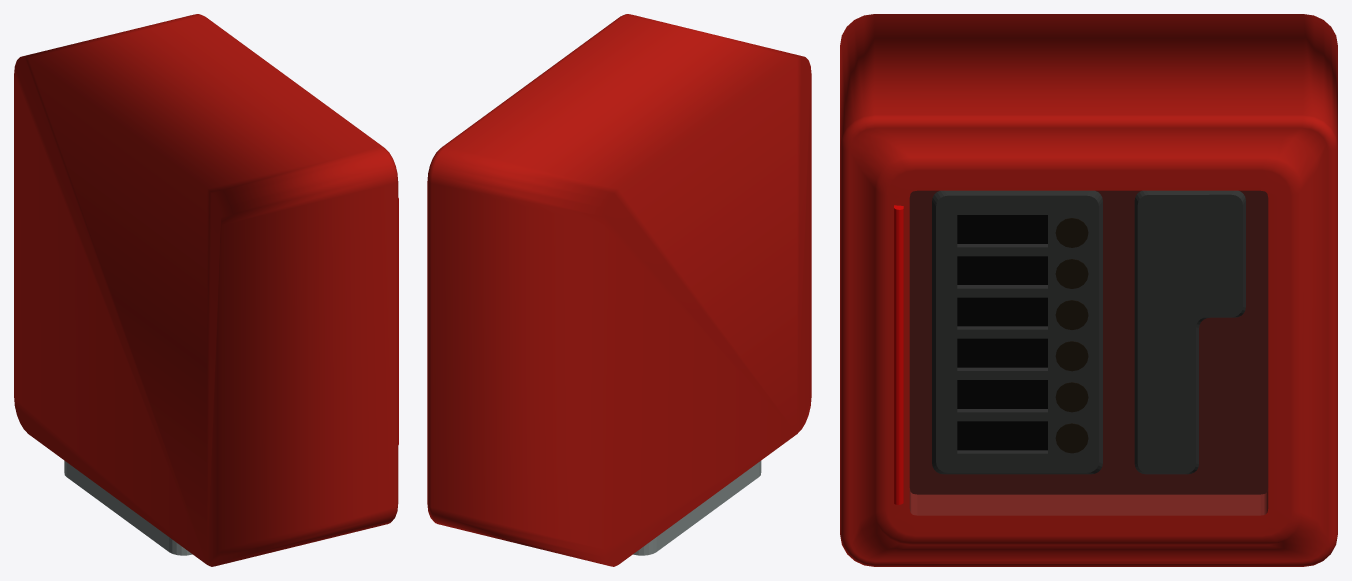
The model's file is LoadCenter_BuildState0.fbx.
3 views of the same model, side by side, from view 1: azimuth 30°, elevation 25°; view 2: azimuth 150°, elevation 25°; view 3: azimuth 270°, elevation 25° (orthographic). The views are drawn at different scales.
Parts seen in each view (by area): view 1: LoadCenter_BuildState0; view 2: LoadCenter_BuildState0; view 3: LoadCenter_BuildState0.
Boxes of the visible parts, x1=… form: LoadCenter_BuildState0: x1=14, y1=14, x2=398, y2=566; LoadCenter_BuildState0: x1=427, y1=14, x2=811, y2=566; LoadCenter_BuildState0: x1=840, y1=14, x2=1337, y2=566.
Size of the model in its own units: 50 by 52 by 28.
